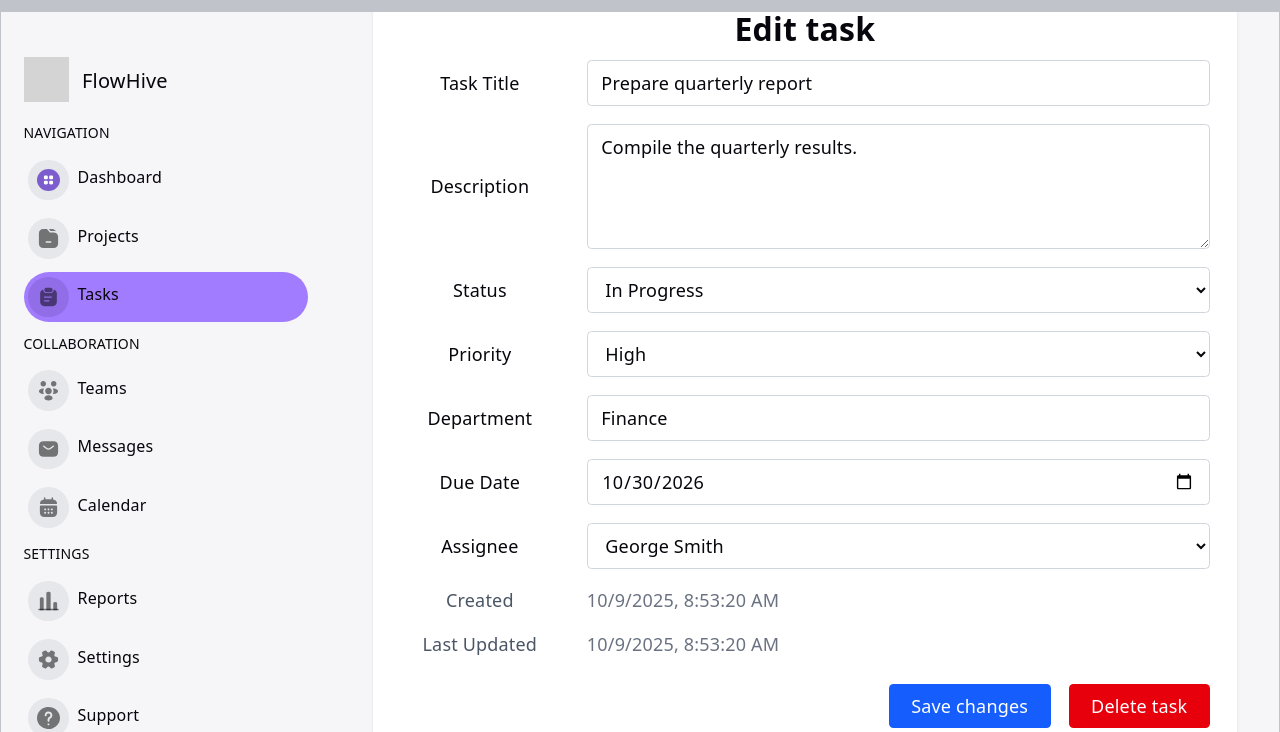
Tasks › loads an existing task and saves an edit
This screenshot has width=1280, height=732.
Replace the text in the field with id "title" with "Prepare the quarterly report" at (899, 83), box [587,60,1210,106]
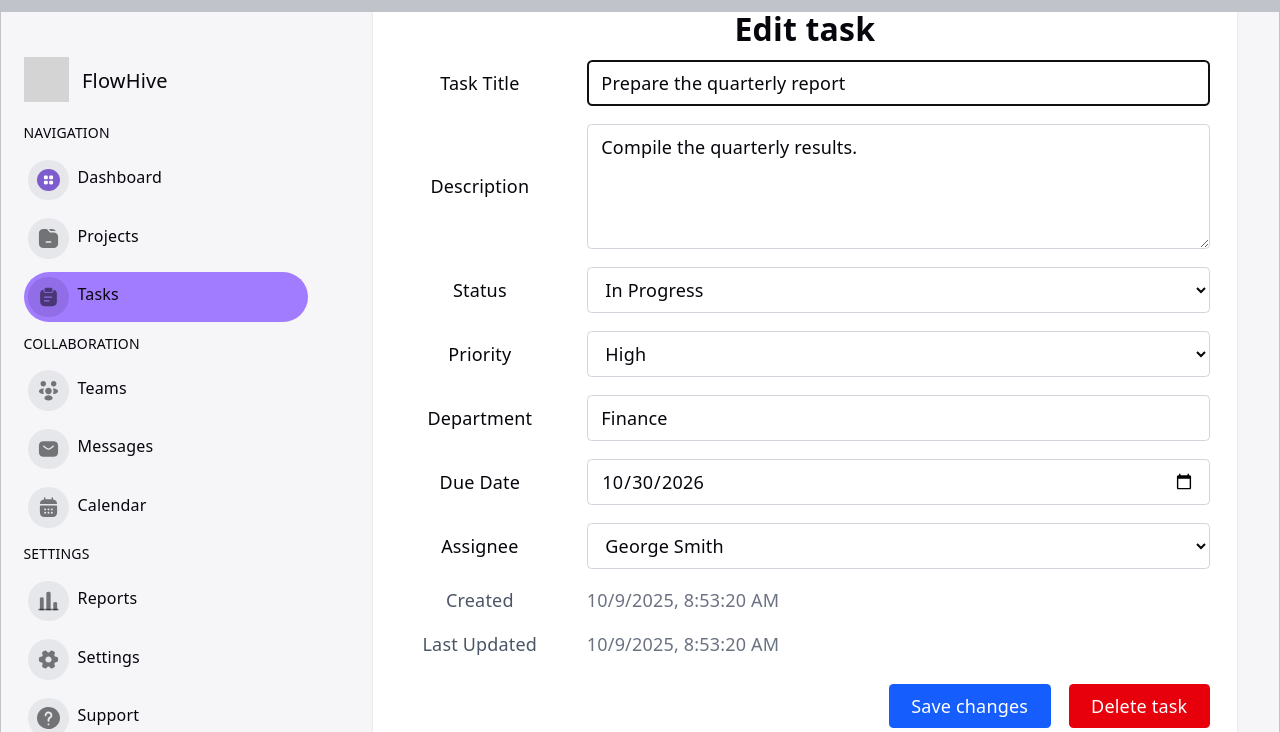
Click the button "Save changes" at (970, 706), box [889,684,1051,728]
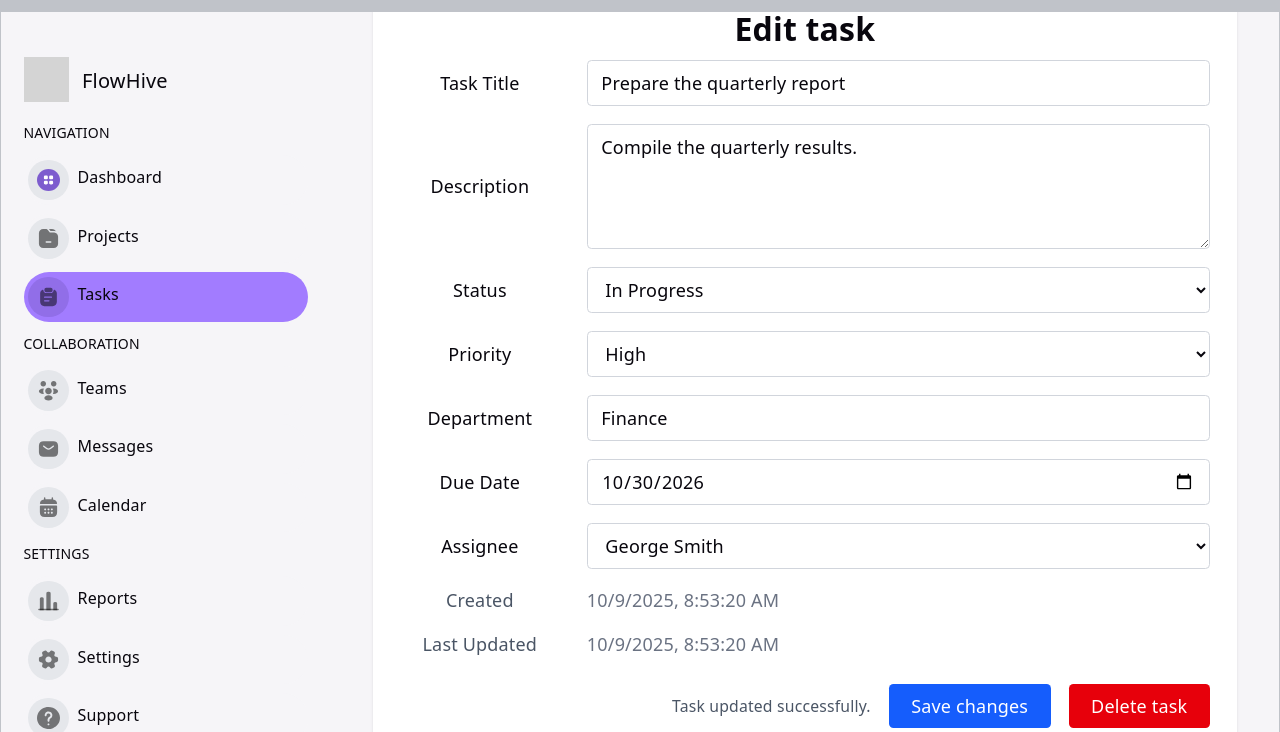
Result: the text "Task updated successfully." is shown at [672,695,871,717]
